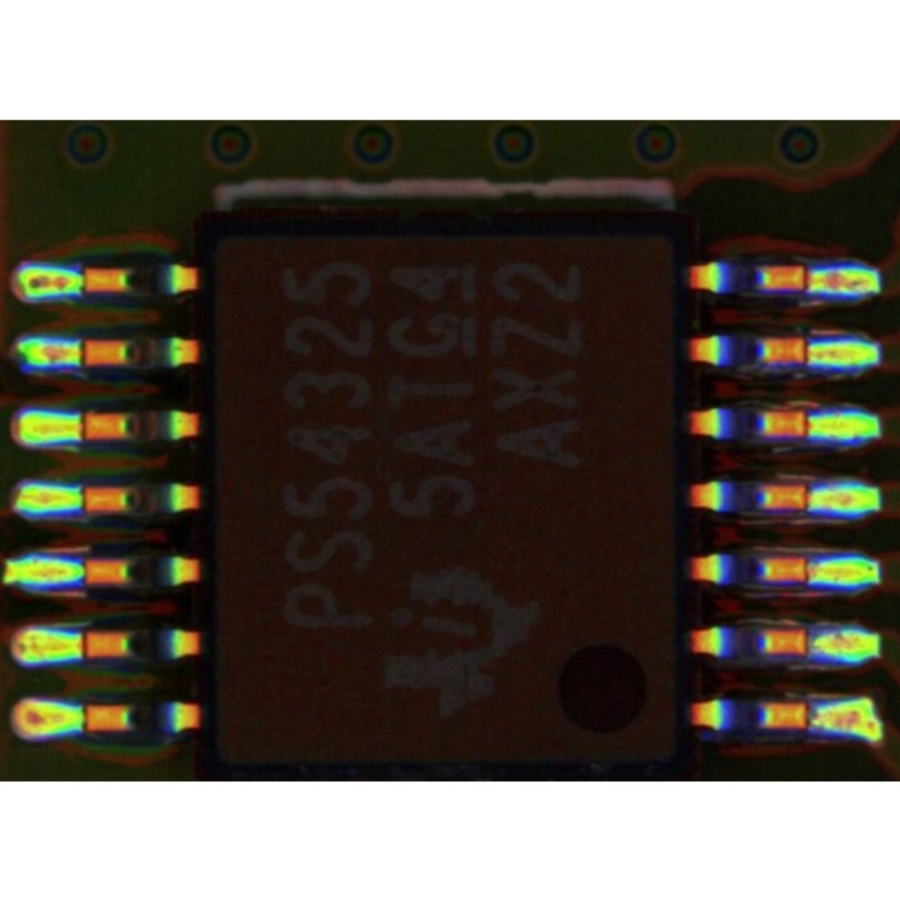Bad_podu: (50, 419, 103, 435), (785, 344, 837, 359), (790, 274, 831, 288)
